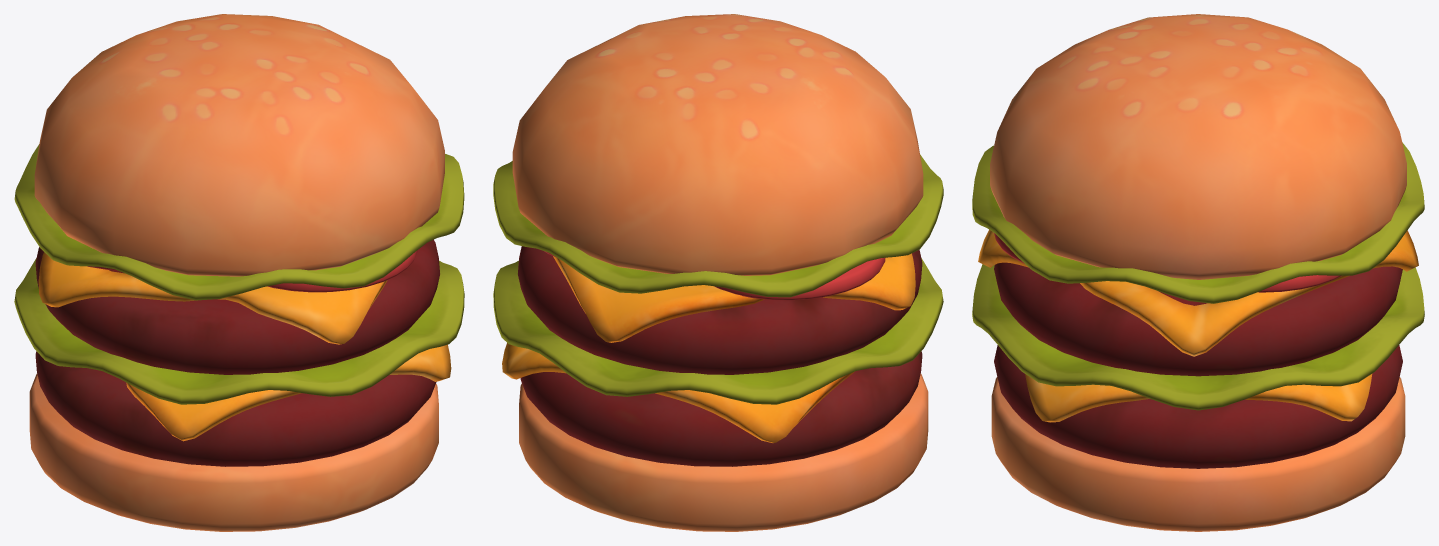
The model's file is burger.glb.
3 renders of one model, left to right at view 1: azimuth 30°, elevation 25°; view 2: azimuth 150°, elevation 25°; view 3: azimuth 270°, elevation 25°, orthographic.
Parts seen in each view (by area): view 1: topbun_low, Bottombun_low.001, Patty_low.001, Patty_low.002, Lettuce_low.001, Lettuce_low.002, Cheese_low.001, Cheese_low, Tomato_low; view 2: topbun_low, Bottombun_low.001, Patty_low.001, Patty_low.002, Lettuce_low.001, Lettuce_low.002, Cheese_low.001, Cheese_low, Tomato_low.001; view 3: topbun_low, Bottombun_low.001, Patty_low.001, Patty_low.002, Lettuce_low.001, Lettuce_low.002, Cheese_low.001, Cheese_low, Tomato_low.002.
Part boxes in pixels (<box>): topbun_low: <box>34,14,444,276</box>; Bottombun_low.001: <box>29,373,438,531</box>; Patty_low.001: <box>35,239,439,374</box>; Patty_low.002: <box>35,351,436,466</box>; Lettuce_low.001: <box>14,258,464,404</box>; Lettuce_low.002: <box>14,144,464,300</box>; Cheese_low.001: <box>38,252,387,344</box>; Cheese_low: <box>126,344,451,441</box>; Tomato_low: <box>267,250,417,292</box>; topbun_low: <box>512,14,923,275</box>; Bottombun_low.001: <box>519,373,928,531</box>; Patty_low.001: <box>518,246,922,374</box>; Patty_low.002: <box>520,351,922,466</box>; Lettuce_low.001: <box>493,258,943,404</box>; Lettuce_low.002: <box>493,154,943,297</box>; Cheese_low.001: <box>553,253,915,342</box>; Cheese_low: <box>502,343,854,442</box>; Tomato_low.001: <box>714,257,885,300</box>; topbun_low: <box>990,14,1406,279</box>; Bottombun_low.001: <box>991,377,1405,531</box>; Patty_low.001: <box>994,262,1402,376</box>; Patty_low.002: <box>994,345,1402,468</box>; Lettuce_low.001: <box>972,264,1424,410</box>; Lettuce_low.002: <box>972,142,1424,303</box>; Cheese_low.001: <box>978,229,1418,356</box>; Cheese_low: <box>1025,374,1372,422</box>; Tomato_low.002: <box>1258,275,1341,292</box>.
Bounding box in the file's own units: 0.2399 × 0.2375 × 0.2397.
Materials: 1 (1 with a texture image).
